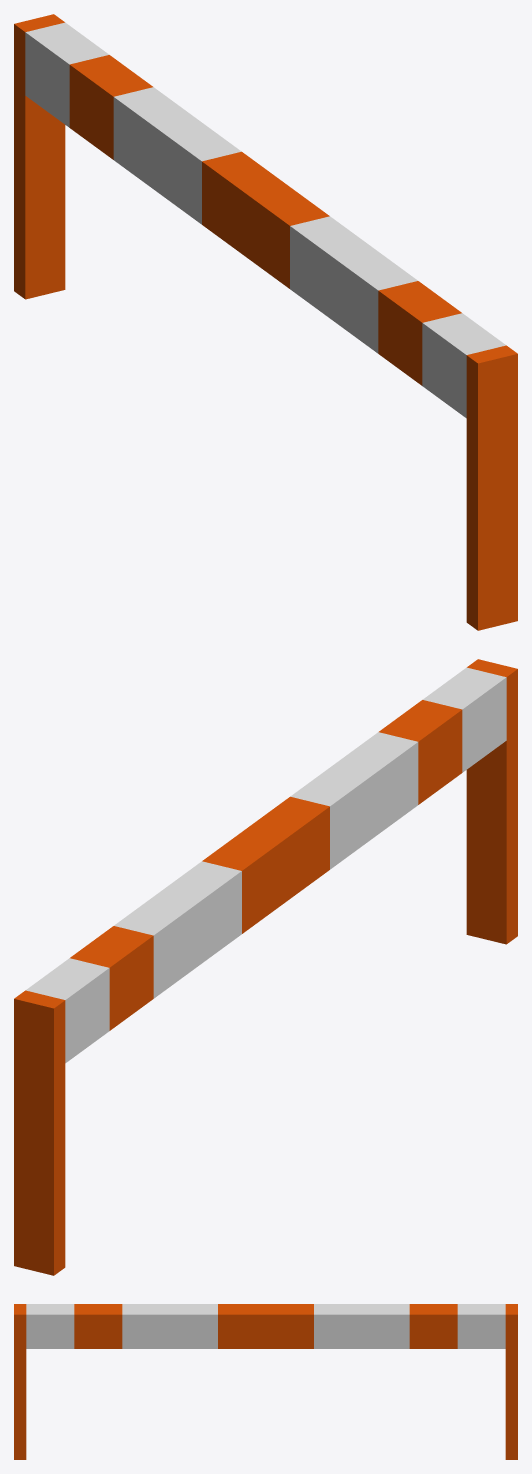
The model's file is 2Trafficstooper2.fbx.
3 views of the same model, one above another, from view 1: azimuth 30°, elevation 25°; view 2: azimuth 150°, elevation 25°; view 3: azimuth 270°, elevation 25° (orthographic). The views are drawn at different scales.
Parts seen in each view (by area): view 1: Cube; view 2: Cube; view 3: Cube.
Boxes of the visible parts, x1,y1,x2,y2 form: Cube: (14,14,517,630); Cube: (14,659,517,1275); Cube: (14,1304,517,1459).
Bounding box in the file's own units: 4.76 × 30.45 × 95.79.
